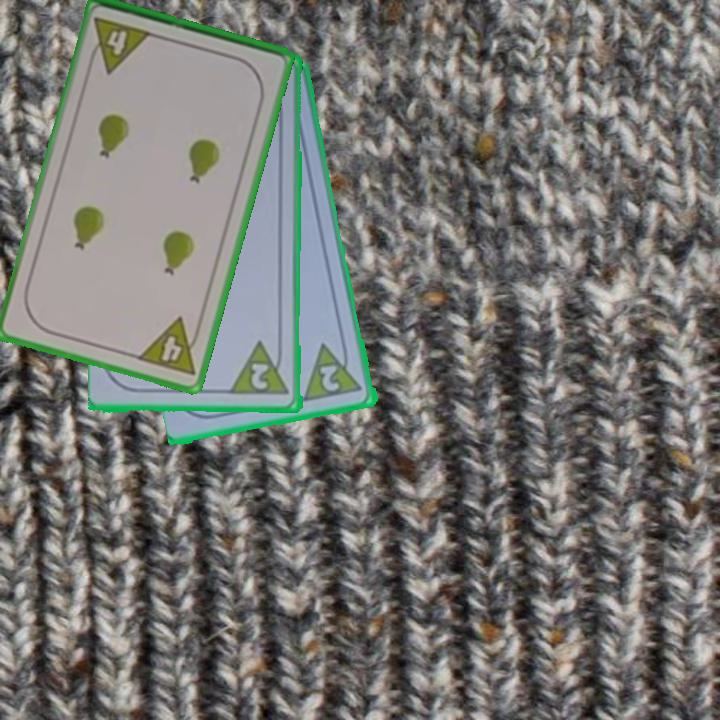2p: (301, 337, 366, 405), (248, 360, 272, 393)
4p: (133, 314, 205, 379), (85, 14, 155, 76)
